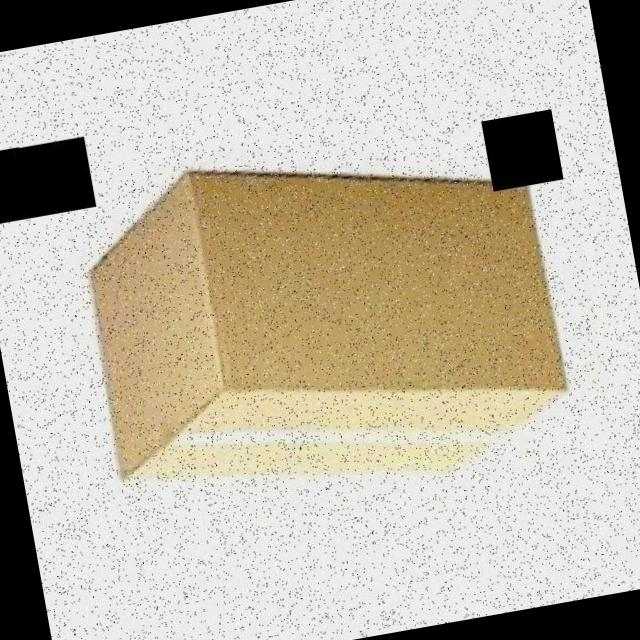box: (61, 110, 578, 524)
